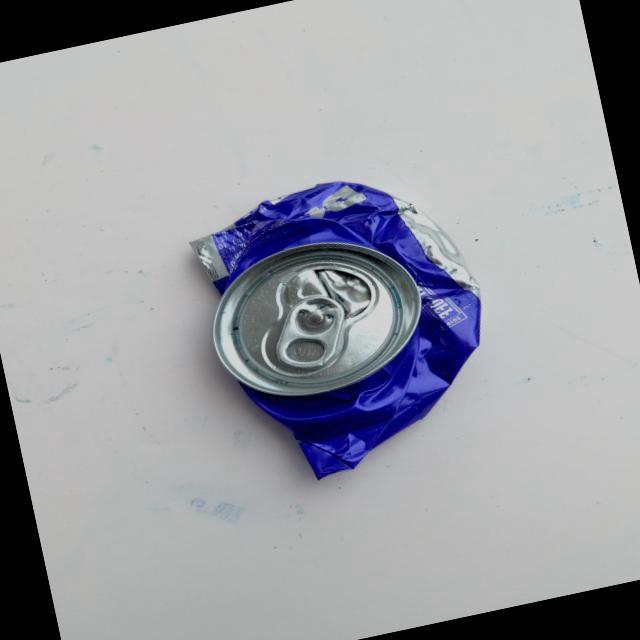metal: (173, 150, 517, 502)
